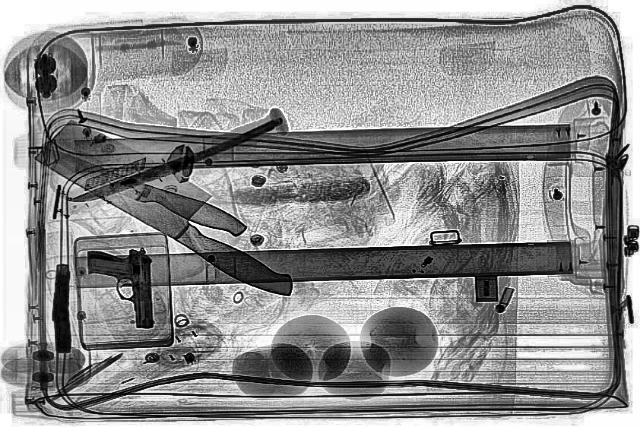Gun: (83, 245, 155, 329), (48, 262, 76, 352)
Knife: (19, 114, 334, 302), (23, 140, 255, 240), (64, 117, 290, 206)
